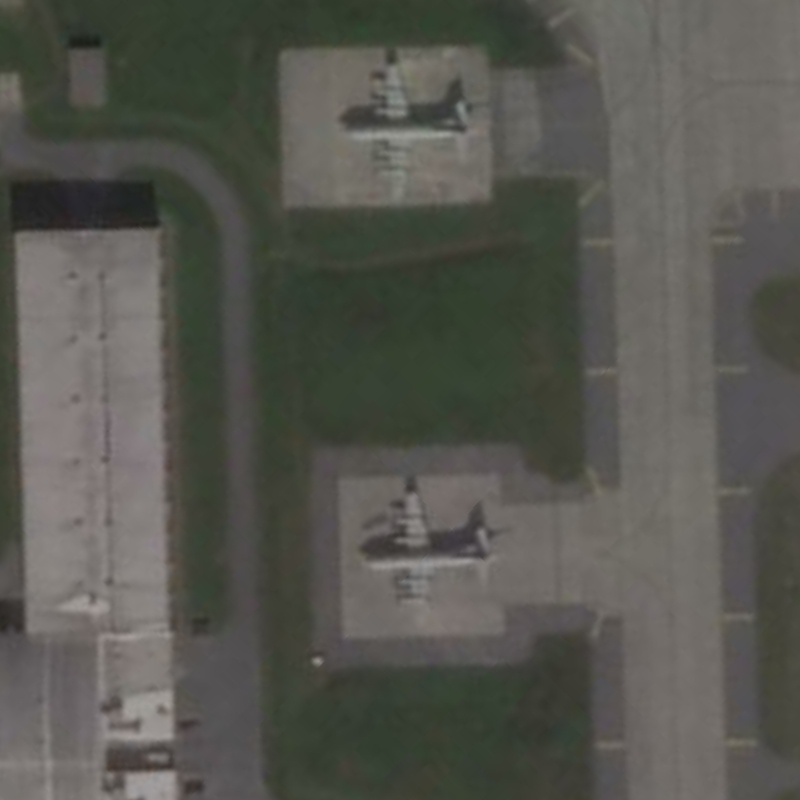A9: (343, 465, 520, 645), (338, 46, 490, 208)
